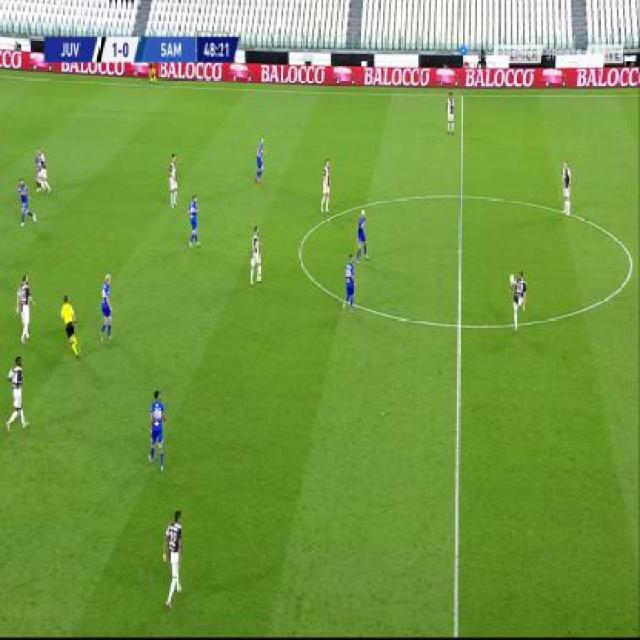ball: (509, 271, 517, 284)
player: (162, 506, 184, 606), (5, 355, 28, 434), (148, 386, 168, 471), (59, 293, 81, 359), (97, 270, 116, 343), (15, 274, 35, 343), (508, 267, 527, 336), (15, 176, 37, 229), (248, 223, 264, 286), (342, 253, 358, 316), (186, 192, 202, 251), (33, 147, 52, 196), (319, 156, 333, 213), (559, 159, 573, 215), (356, 207, 370, 263), (167, 151, 180, 210), (253, 135, 267, 186), (446, 91, 457, 136), (149, 61, 158, 86)
